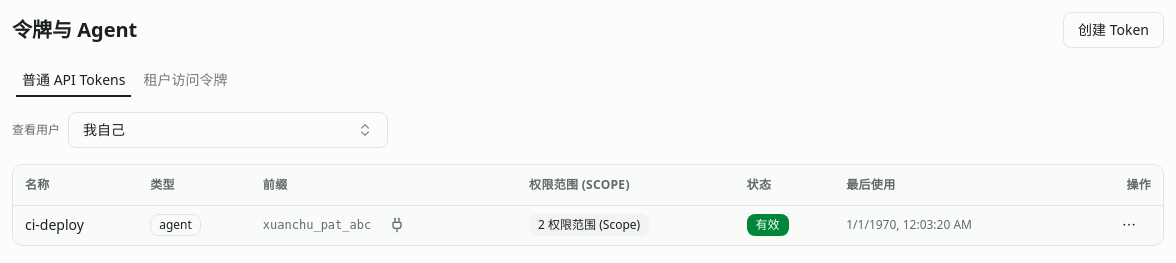
Test: TokensPage › renders tenant access token rows from tenant tab
Click the tab "租户访问令牌" at (186, 80), box [136, 68, 234, 92]
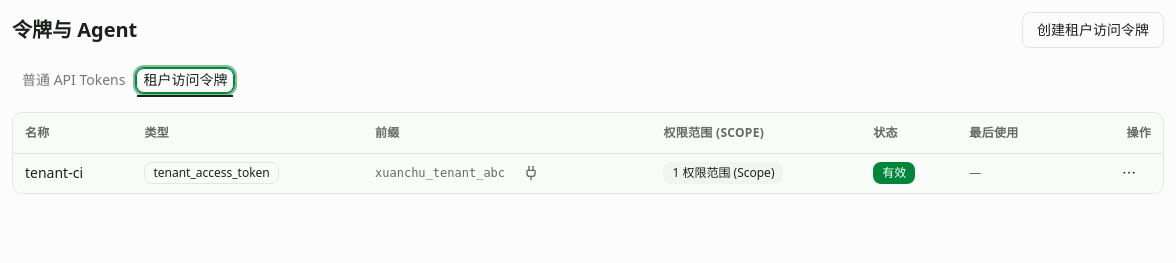
Check: the text "tenant-ci" is shown, box [13, 153, 132, 193]
